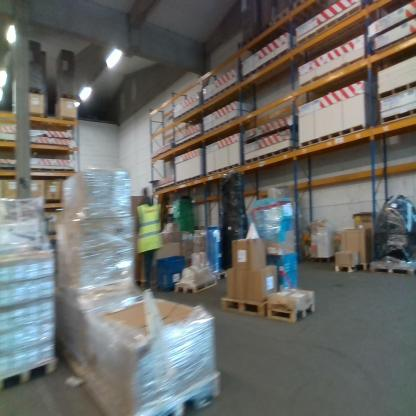pallet: (296, 4, 371, 53), (152, 368, 230, 412), (294, 120, 375, 153), (2, 353, 60, 394), (241, 47, 300, 85), (301, 60, 357, 93), (219, 287, 271, 321), (266, 293, 314, 329), (244, 143, 298, 175), (203, 113, 254, 142), (368, 251, 413, 280), (202, 82, 248, 110), (174, 274, 217, 302), (205, 160, 244, 183), (375, 79, 414, 102), (168, 130, 203, 151), (174, 171, 205, 194), (334, 260, 367, 279), (382, 109, 414, 127), (273, 2, 293, 30), (215, 266, 233, 292), (314, 248, 335, 264), (24, 84, 48, 96), (61, 91, 78, 101)
